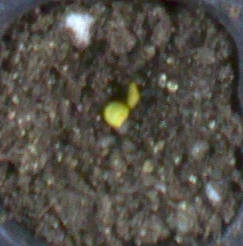chilli seed: (103, 102, 127, 128), (127, 82, 139, 107)
